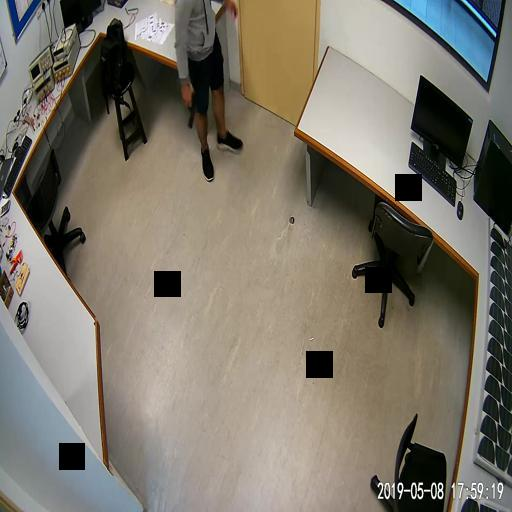Handgun: (183, 89, 196, 127)
